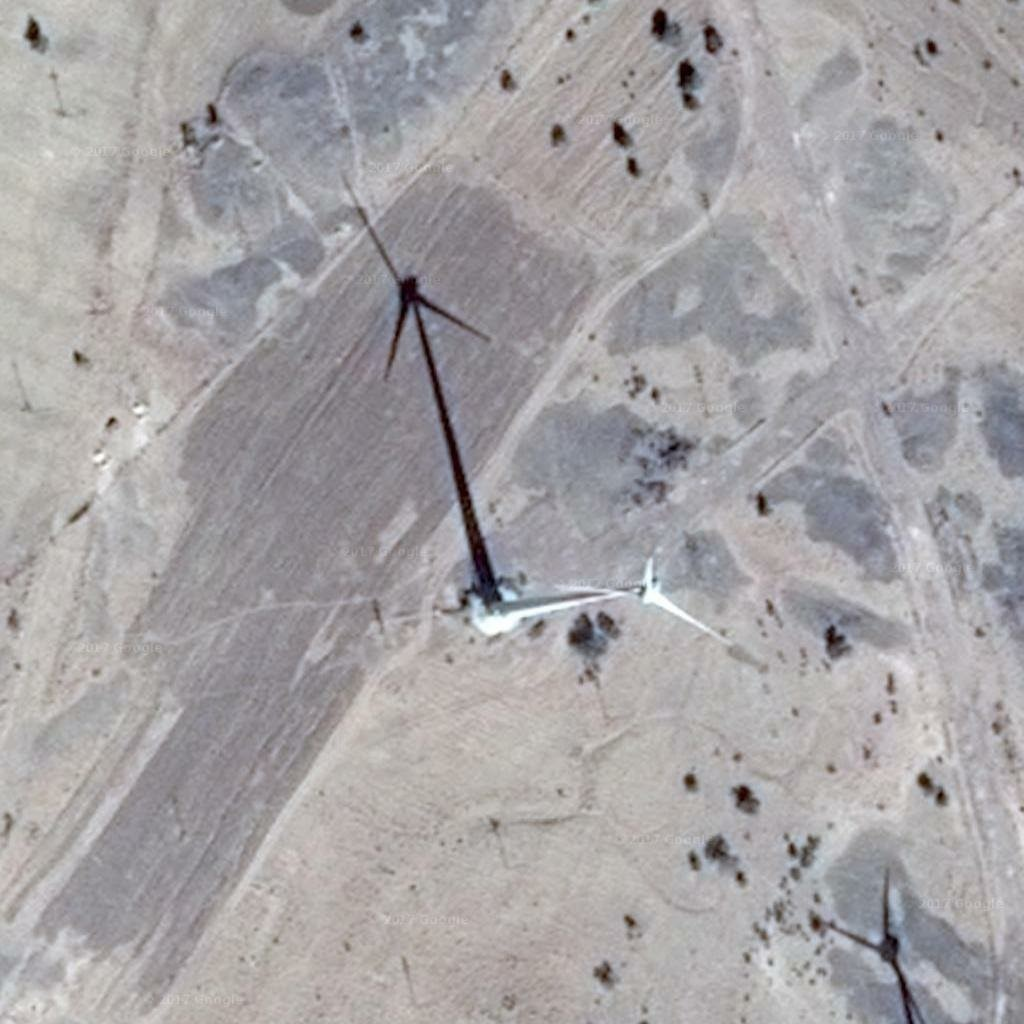Windmill: (343, 181, 529, 596)
